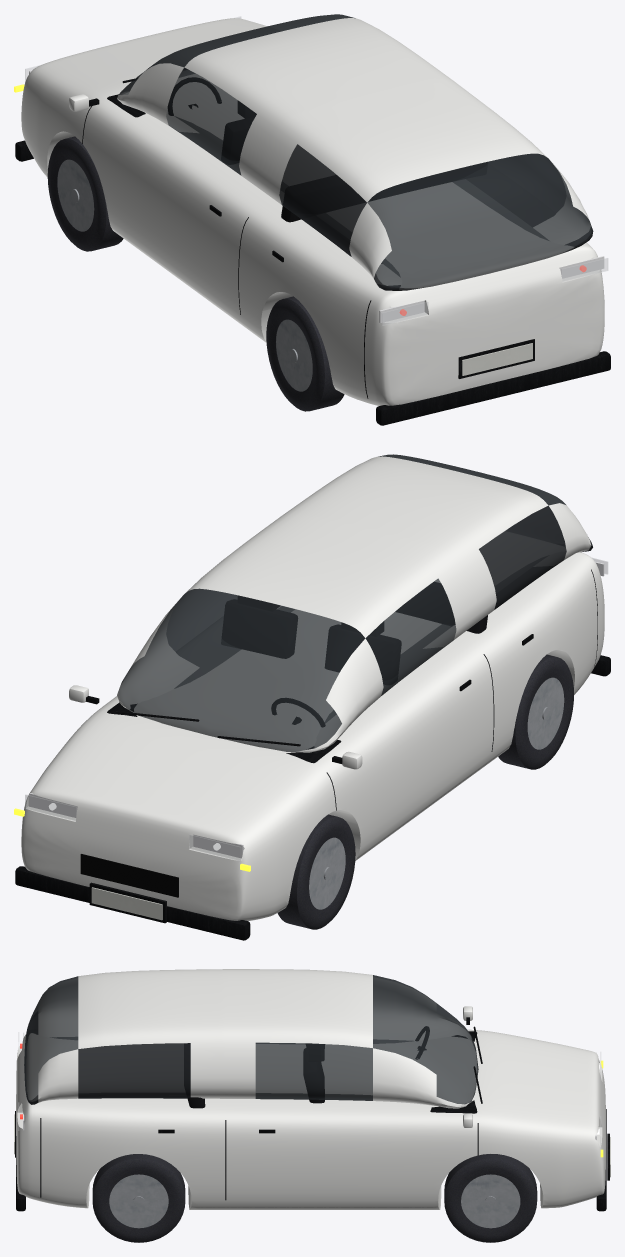
File: suv_white.gltf
3 renders of one model, top to bottom at view 1: azimuth 30°, elevation 25°; view 2: azimuth 150°, elevation 25°; view 3: azimuth 270°, elevation 25°, orthographic. The views are drawn at different scales.
Parts seen in each view (by area): view 1: suv_white; view 2: suv_white; view 3: suv_white.
Part boxes in pixels (x1,y1,x2,y2): suv_white: [14, 14, 610, 425]; suv_white: [14, 454, 610, 940]; suv_white: [14, 969, 610, 1242].
Size of the model in its own units: 2.14 by 1.73 by 4.75.
Materials: 17 (8 with a texture image).
